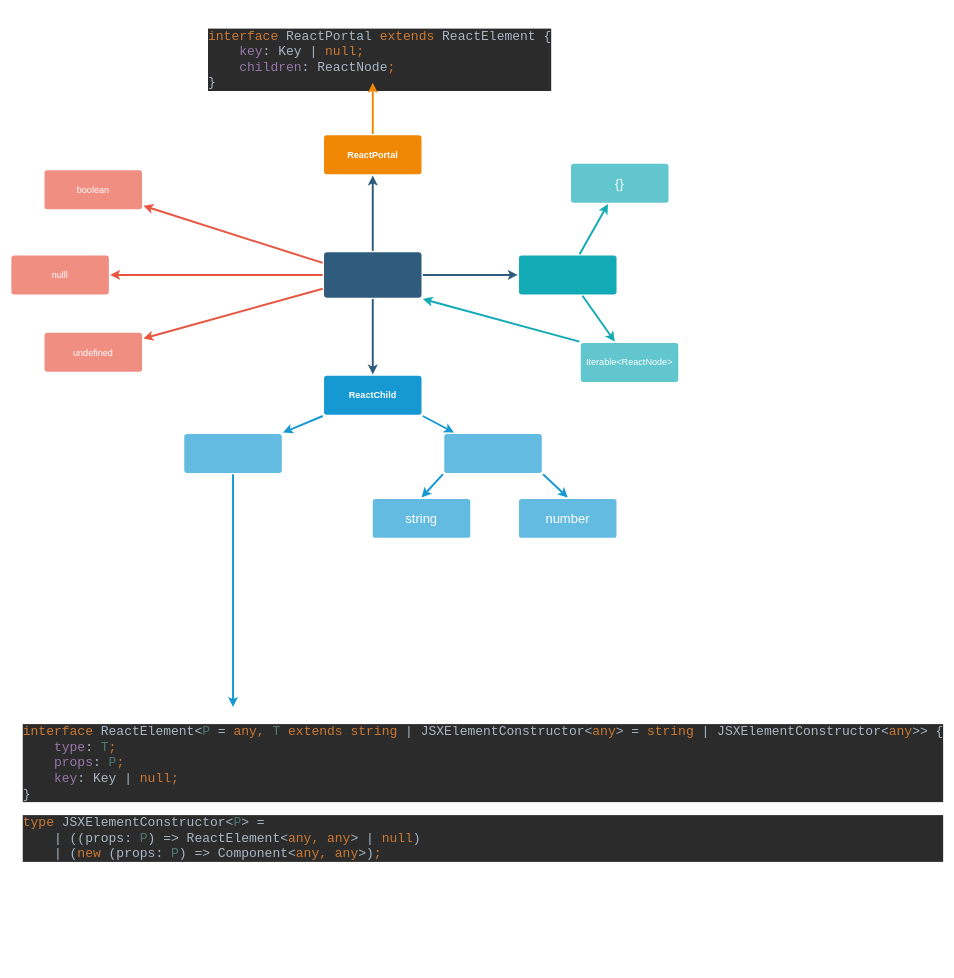
Image size: 954x978. Some labels were removed from this diagram. Here are the shapes that lost their labels. From the top down, the centre of each, then its label:
At pixel 372 274: "ReactNode".
At pixel 567 274: "ReactFragment".
At pixel 232 453: "ReactElement".
At pixel 492 453: "ReactText".
